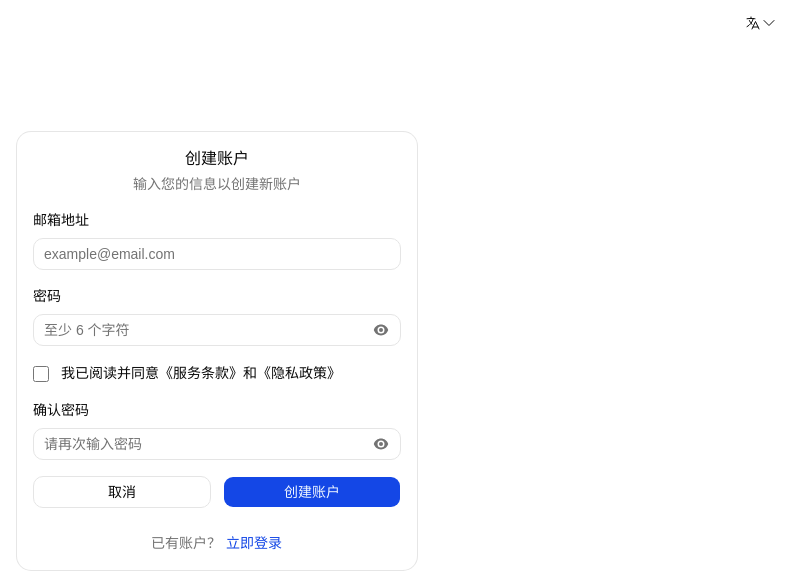
Test case: SignUpPage › 表单提交 › 应该显示请查收验证邮件状态（注册成功后）
Type "user@example.com" into the field labelled "邮箱地址" at (217, 254), box [33, 238, 401, 270]
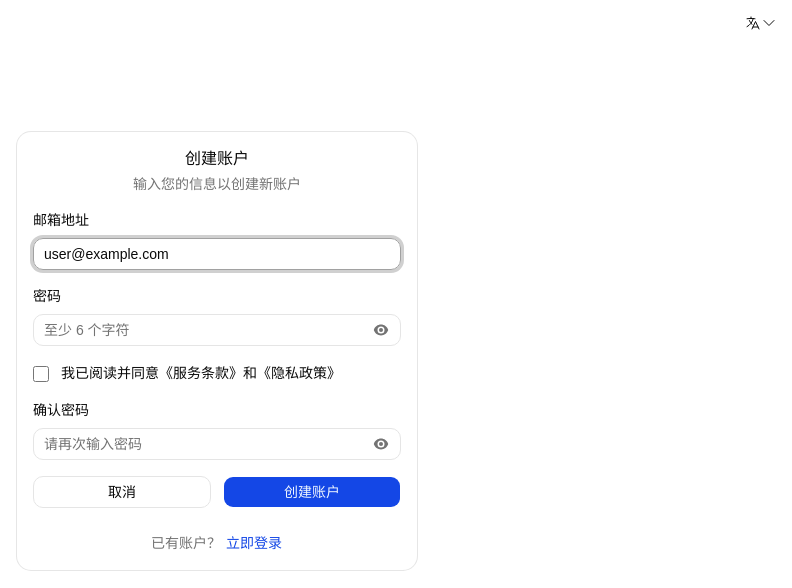
Type "password123" into the password field labelled "密码" at (217, 330), box [33, 314, 401, 346]
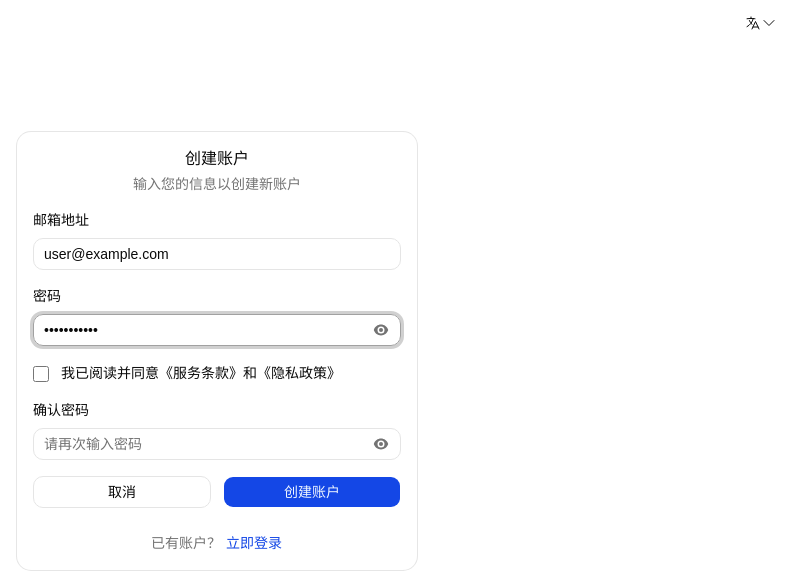
Type "password123" into the password field labelled "确认密码" at (217, 444), box [33, 428, 401, 460]
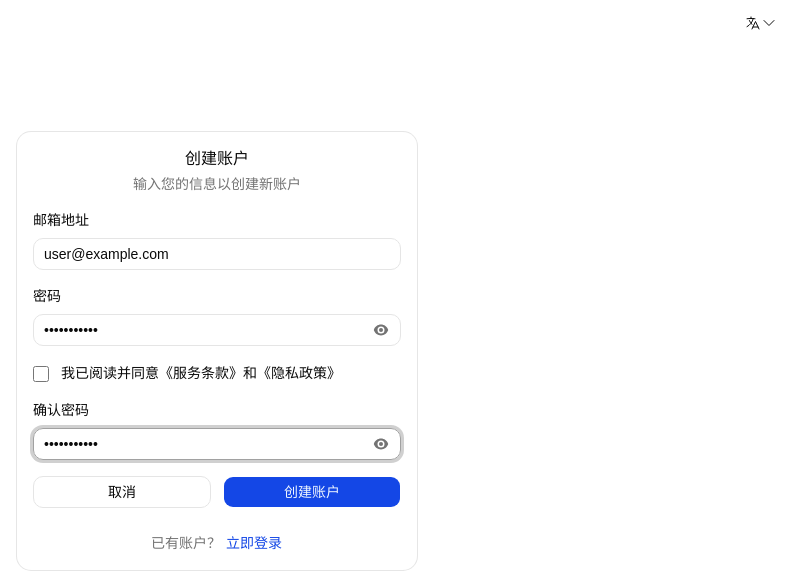
Click the checkbox at (41, 374), box [33, 366, 49, 382]
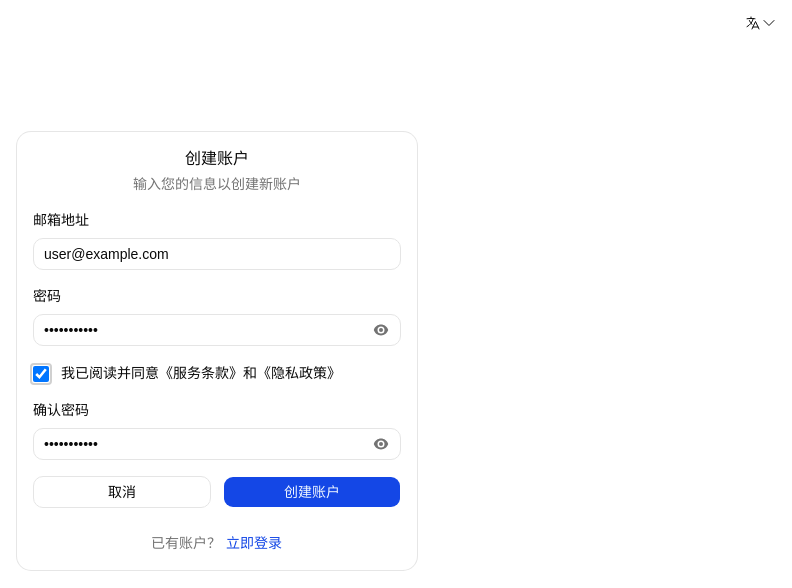
Click the button "创建账户" at (312, 492), box [223, 476, 401, 508]
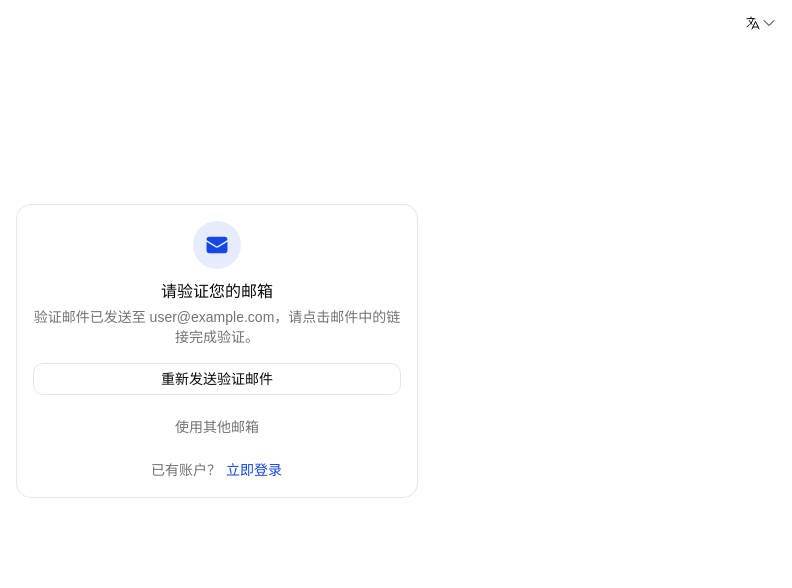
expect the text "请验证您的邮箱" is shown: met, box [161, 283, 273, 300]
expect the text "验证邮件已发送至 user@example.com，请点击邮件中的链接完成验证。" is shown: met, box [33, 307, 401, 347]
